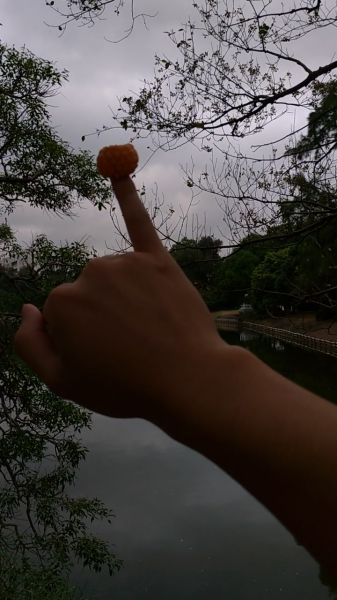eggs: (97, 143, 138, 178)
